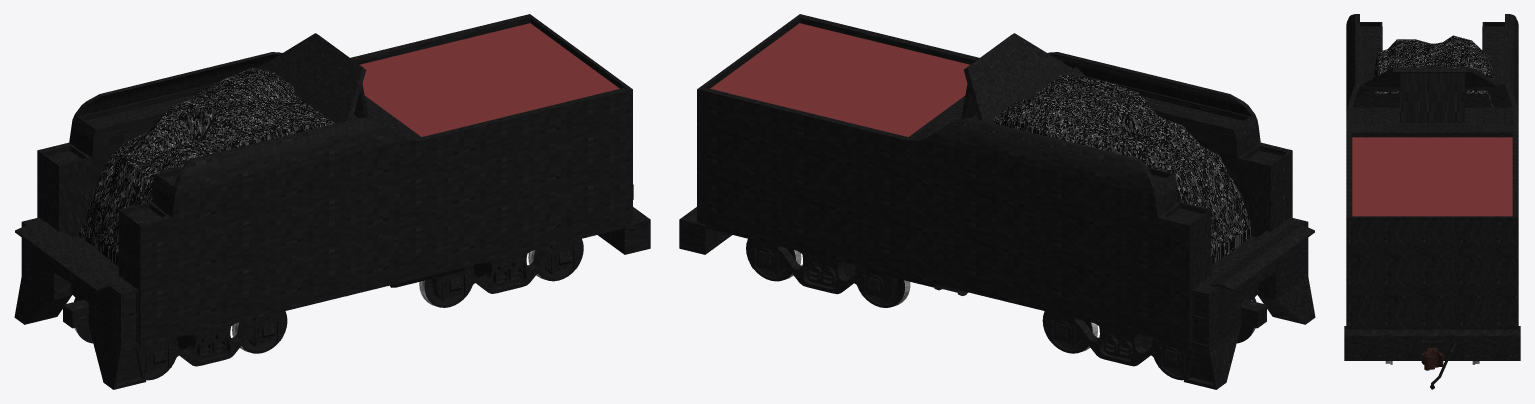
Rendered from k4_tender.obj.
3 renders of one model, left to right at view 1: azimuth 30°, elevation 25°; view 2: azimuth 150°, elevation 25°; view 3: azimuth 270°, elevation 25°, orthographic. The views are drawn at different scales.
Visible parts, largest first — view 1: body_Cube.005, COAL_Plane, FRAME_Cube.011, BOGEY_FRONT_Cube.022, BOGEY_REAR_Cube.006, BOGEY_REAR_WHEEL_1_Cylinder.001; view 2: body_Cube.005, COAL_Plane, FRAME_Cube.011, BOGEY_REAR_Cube.006, BOGEY_FRONT_Cube.022, BOGEY_REAR_WHEEL_1_Cylinder.001, BOGEY_REAR_WHEEL_2_Cylinder.002, BOGEY_FRONT_WHEEL_2_Cylinder.000; view 3: body_Cube.005, FRAME_Cube.011, COAL_Plane, BACK_COUPLER.002_Cube.002, MAIN.000_MAIN.003, BACK_COUPLER_KNUCLE.002_Cylinder.005.
Part boxes in pixels (box(x1,y1,x2,y2)): body_Cube.005: box(15, 14, 632, 348); COAL_Plane: box(79, 67, 334, 266); FRAME_Cube.011: box(14, 207, 650, 389); BOGEY_FRONT_Cube.022: box(74, 298, 285, 373); BOGEY_REAR_Cube.006: box(431, 239, 582, 300); BOGEY_REAR_WHEEL_1_Cylinder.001: box(419, 265, 474, 307); body_Cube.005: box(697, 14, 1314, 348); COAL_Plane: box(993, 74, 1252, 264); FRAME_Cube.011: box(679, 207, 1315, 389); BOGEY_REAR_Cube.006: box(747, 239, 898, 300); BOGEY_FRONT_Cube.022: box(1044, 297, 1256, 373); BOGEY_REAR_WHEEL_1_Cylinder.001: box(855, 265, 910, 307); BOGEY_REAR_WHEEL_2_Cylinder.002: box(746, 238, 801, 281); BOGEY_FRONT_WHEEL_2_Cylinder.000: box(1042, 311, 1097, 353); body_Cube.005: box(1346, 14, 1518, 329); FRAME_Cube.011: box(1344, 326, 1520, 360); COAL_Plane: box(1370, 35, 1494, 110); BACK_COUPLER.002_Cube.002: box(1421, 347, 1443, 370); MAIN.000_MAIN.003: box(1430, 342, 1456, 389); BACK_COUPLER_KNUCLE.002_Cylinder.005: box(1424, 355, 1436, 369).
Bounding box in the file's own units: 10.71 × 4.59 × 3.39.
10 materials, 10 textured.
